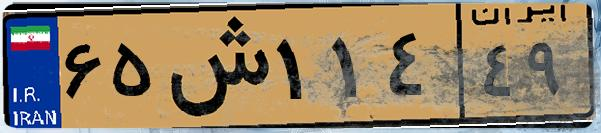1: (270, 28, 330, 110), (330, 28, 385, 110)
4: (385, 28, 445, 110), (475, 38, 525, 113)
5: (110, 28, 158, 98)
6: (57, 26, 110, 100)
9: (525, 38, 570, 115)
ش: (158, 12, 270, 120)
